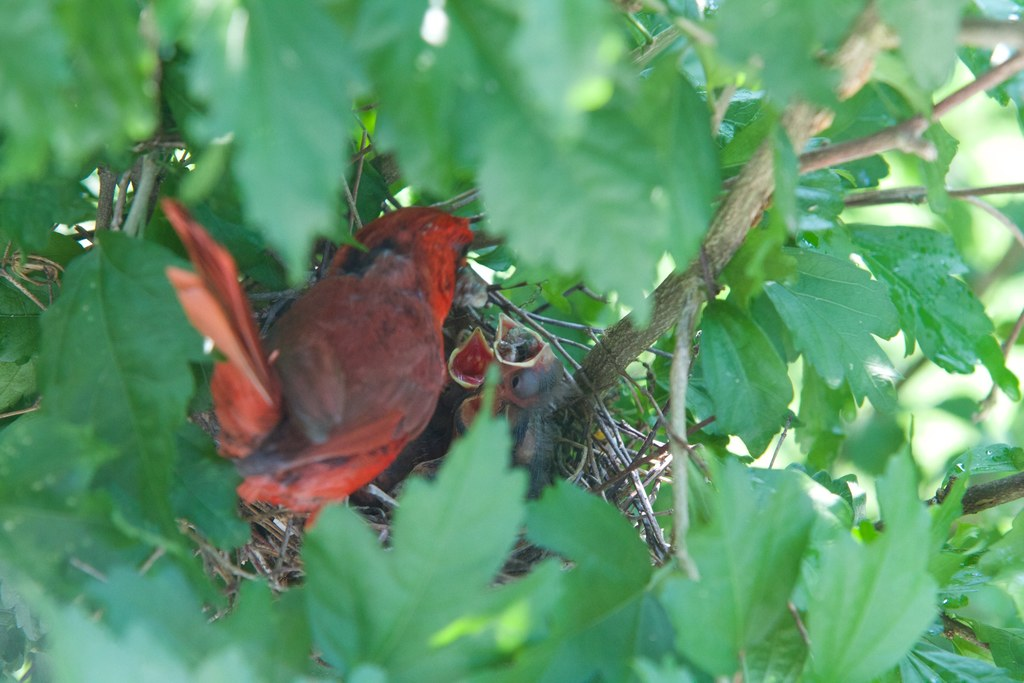Bird: (160, 195, 477, 527), (343, 326, 495, 553), (488, 311, 584, 502)
